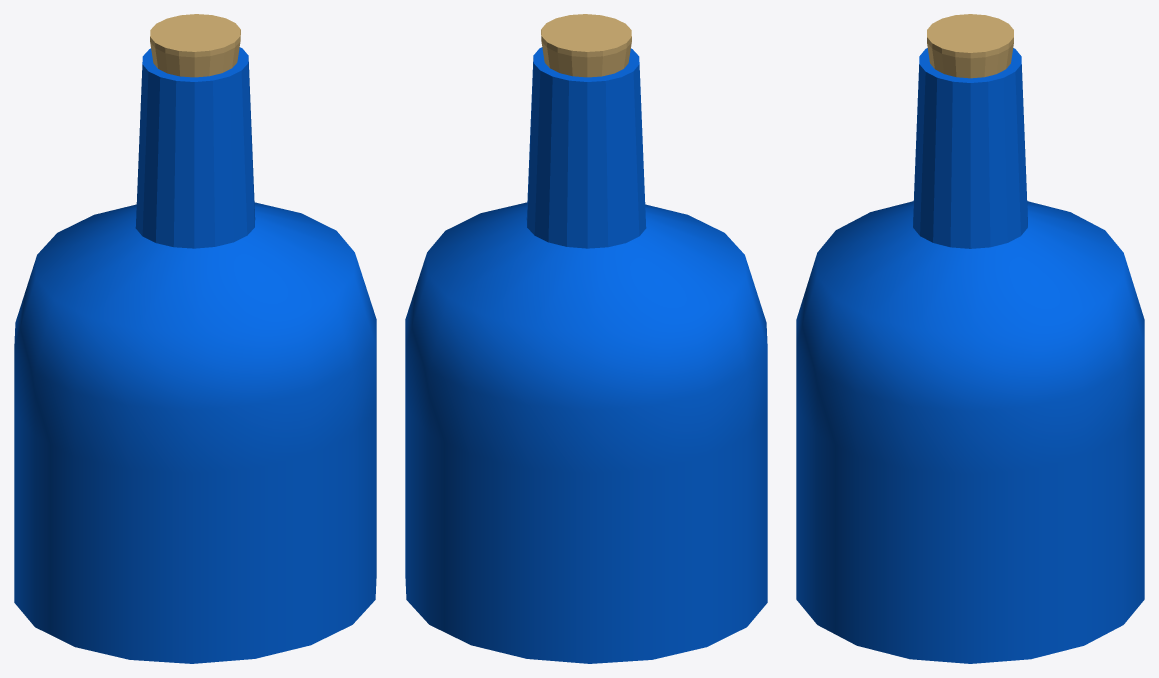
File: bottle2_textured.fbx
3 views of the same model, side by side, from view 1: azimuth 30°, elevation 25°; view 2: azimuth 150°, elevation 25°; view 3: azimuth 270°, elevation 25° (orthographic).
Parts seen in each view (by area): view 1: Bottle2; view 2: Bottle2; view 3: Bottle2.
Boxes of the visible parts, x1,y1,x2,y2 form: Bottle2: [14, 14, 376, 663]; Bottle2: [405, 14, 767, 663]; Bottle2: [796, 14, 1144, 663].
Bounding box in the file's own units: 10.76 × 17.78 × 10.16.
